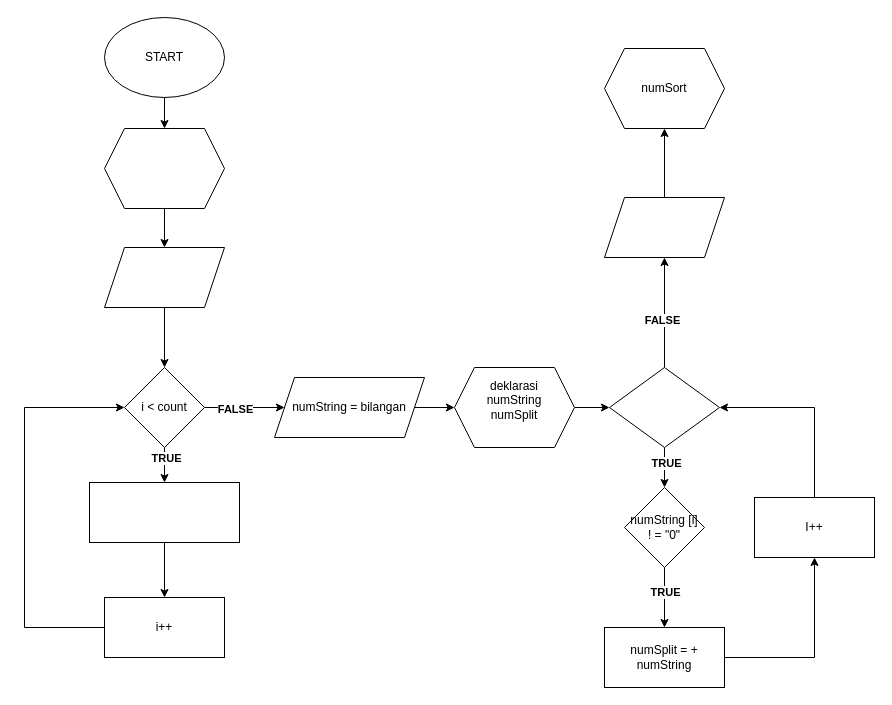
Some shapes in this 892 by 705 pixel diagram are drawn without their labels. Here are the shapes that lost their labels. From the top down, the centre of each, then its label:
point 164,168: deklarasi numString = "" count = bilangan.length
point 664,227: Output numSplit
point 164,277: input bilangan
point 664,407: i <numstring.len
point 164,512: number % 10 squared i+1 / squared i
